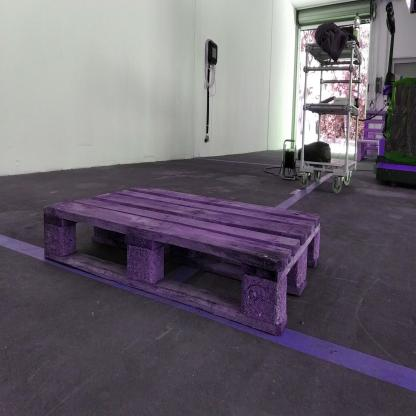BoxFace: (42, 180, 324, 337)
